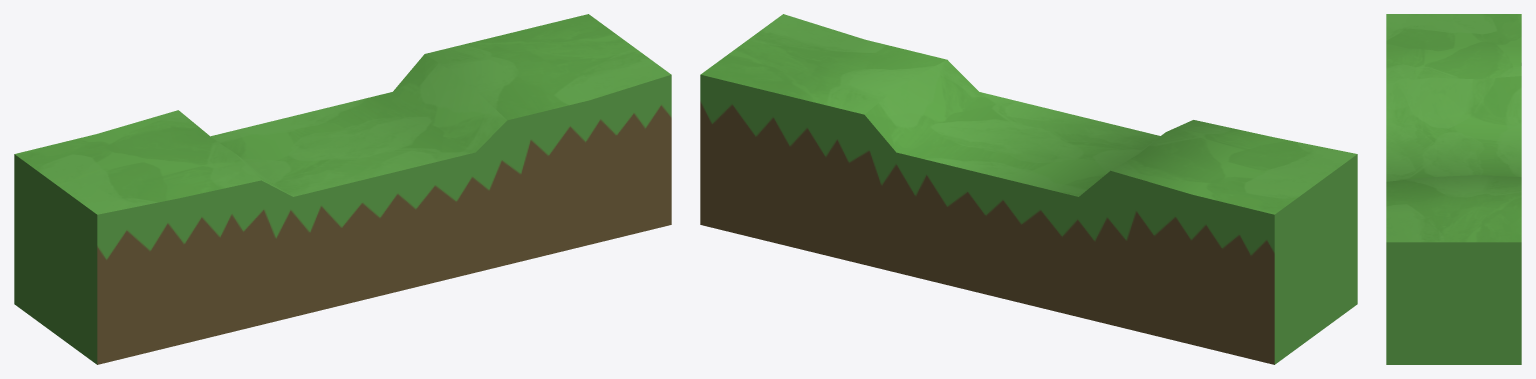
Rendered from Terrain_002.FBX.
The picture shows the model from 3 angles, left to right: view 1: azimuth 30°, elevation 25°; view 2: azimuth 150°, elevation 25°; view 3: azimuth 270°, elevation 25°; orthographic projection. The views are drawn at different scales.
Parts seen in each view (by area): view 1: Box002; view 2: Box002; view 3: Box002.
Boxes of the visible parts, <box> form: Box002: <box>14,14,671,364</box>; Box002: <box>700,14,1357,364</box>; Box002: <box>1386,14,1521,364</box>.
Size of the model in its own units: 160 by 41.07 by 40.
1 material, 1 textured.
